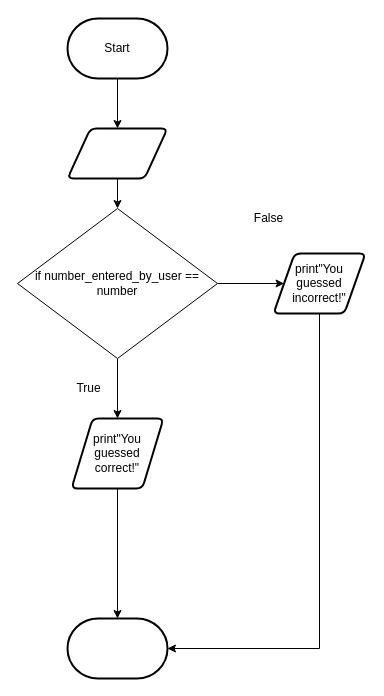
Some shapes in this 384 by 696 pixel diagram are drawn without their labels. The centre of each missing label's shape, as x and y in pixels:
"Get number" belongs at (117,153).
"Stop" belongs at (117,648).
